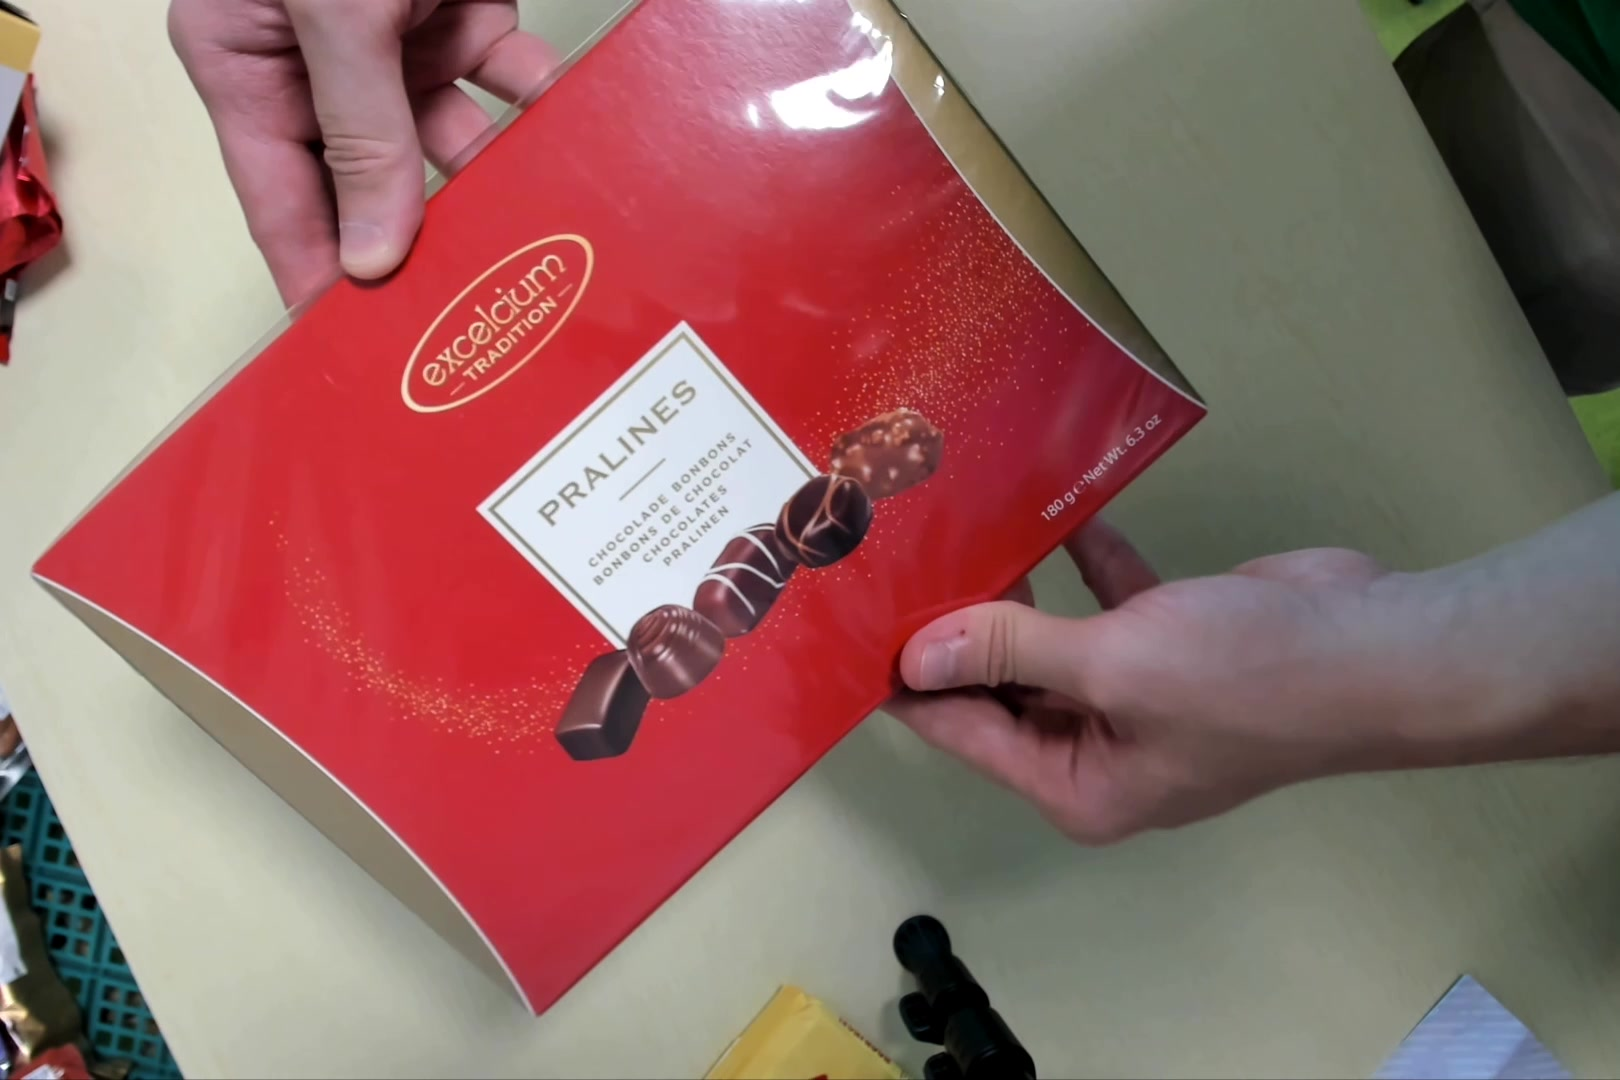SweetsChocolatesOthers_100-199g_NonHalal_NonHealthy: (40, 6, 1204, 1020)
